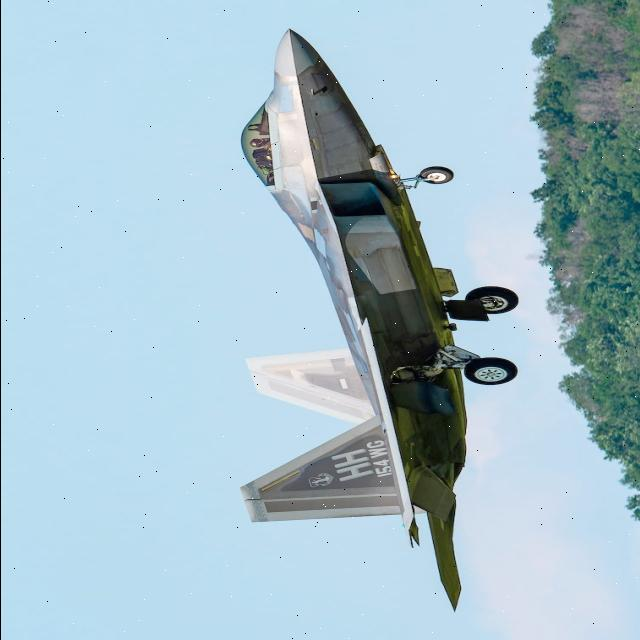F22: (173, 16, 523, 640)
